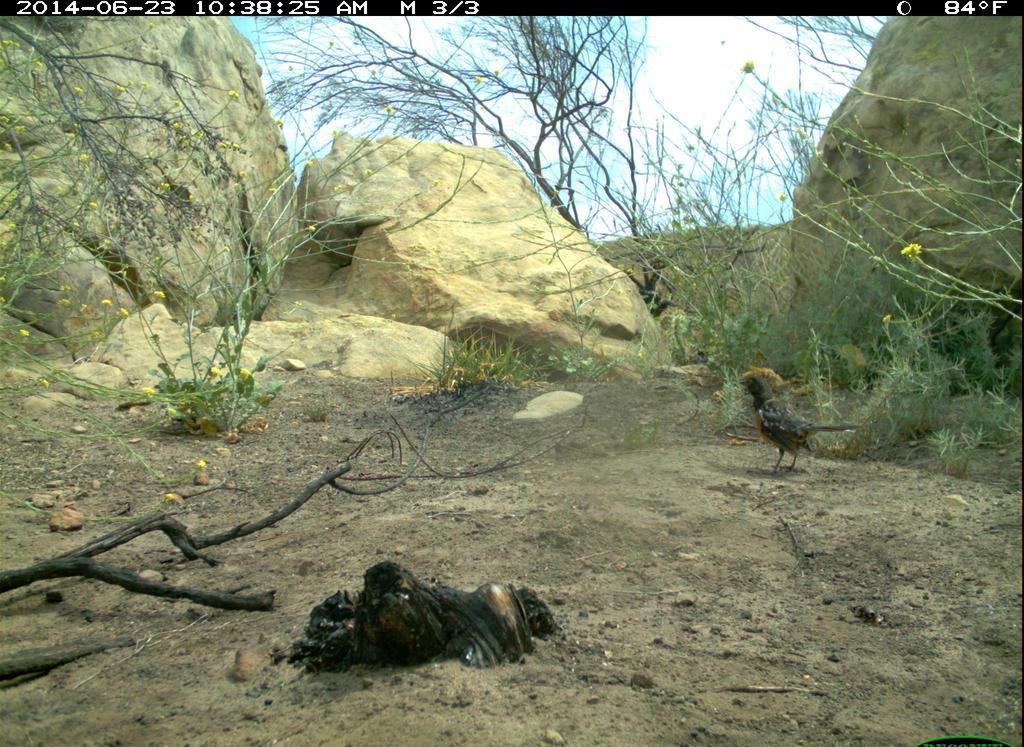bird: (739, 369, 871, 481)
